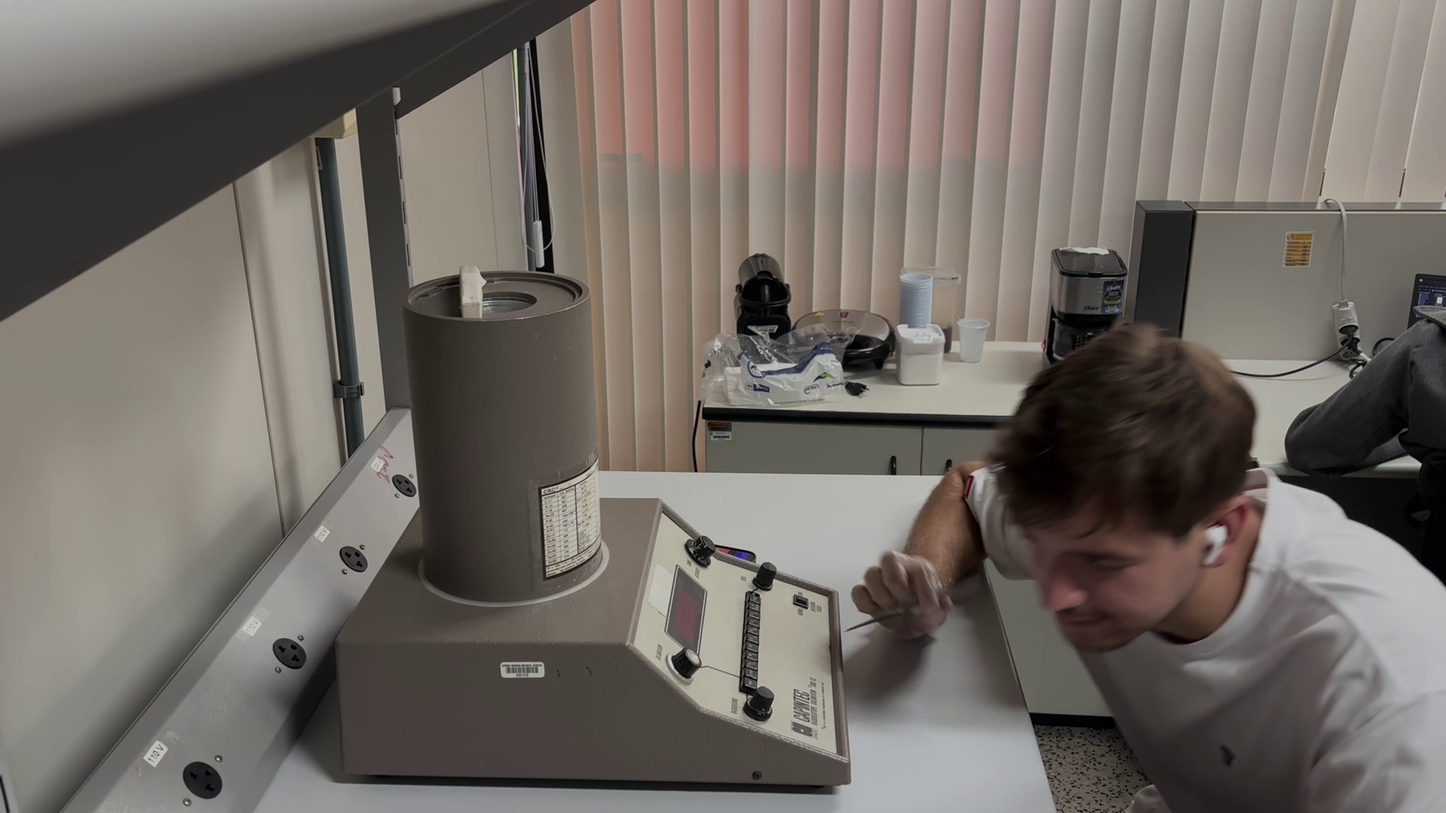Ativimetro: (398, 267, 609, 606)
Com_Luva: (851, 549, 956, 635)
